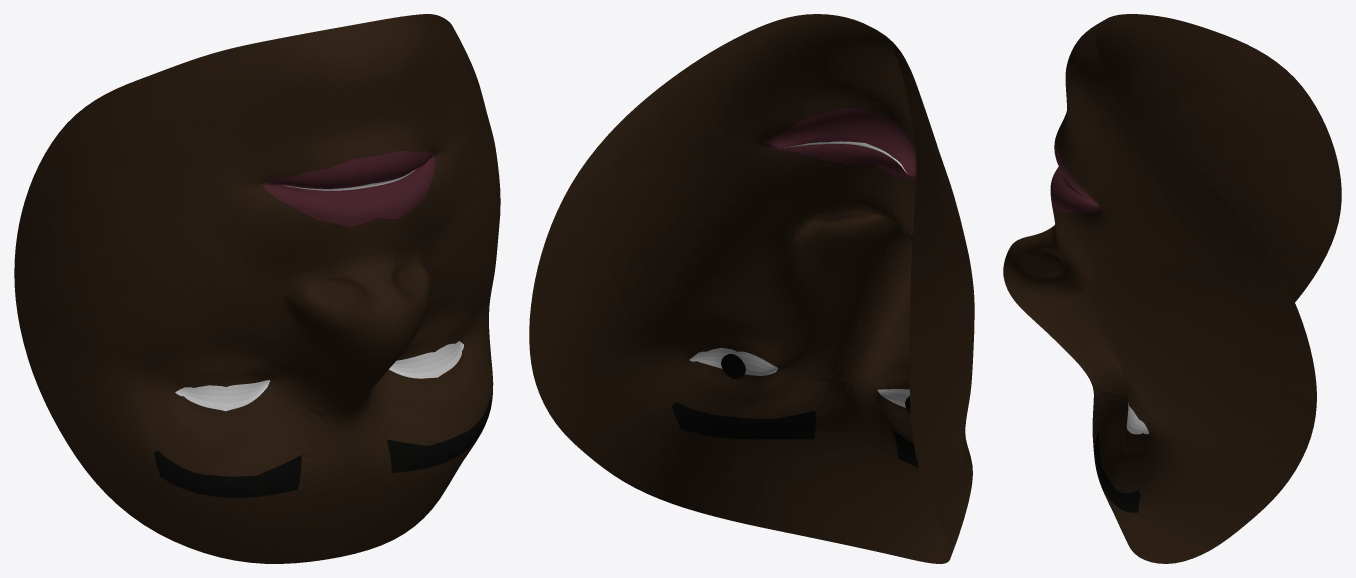
Rendered from VID-20250515-WA0007_f_00008.obj.
The picture shows the model from 3 angles, left to right: view 1: azimuth 30°, elevation 25°; view 2: azimuth 150°, elevation 25°; view 3: azimuth 270°, elevation 25°; orthographic projection. The views are drawn at different scales.
Parts seen in each view (by area): view 1: face_mesh_subdivided; view 2: face_mesh_subdivided; view 3: face_mesh_subdivided.
Part boxes in pixels (bbox=[...]): face_mesh_subdivided: bbox=[14, 14, 500, 563]; face_mesh_subdivided: bbox=[529, 14, 974, 563]; face_mesh_subdivided: bbox=[1003, 14, 1341, 563].
Bounding box in the file's own units: 0.4683 × 0.5776 × 0.3605.
